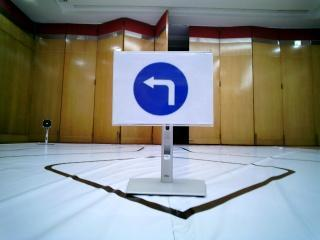left: (115, 58, 212, 124)
